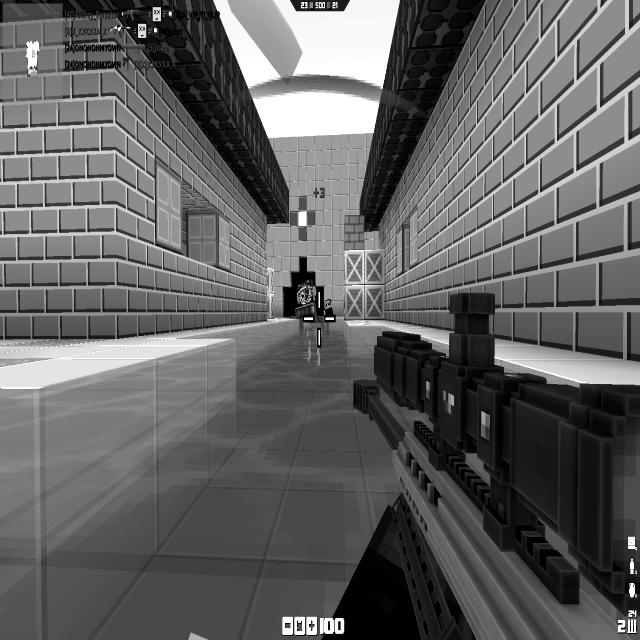Head: (296, 279, 316, 306), (324, 298, 332, 309)
Player: (295, 279, 322, 365), (324, 299, 336, 334)
